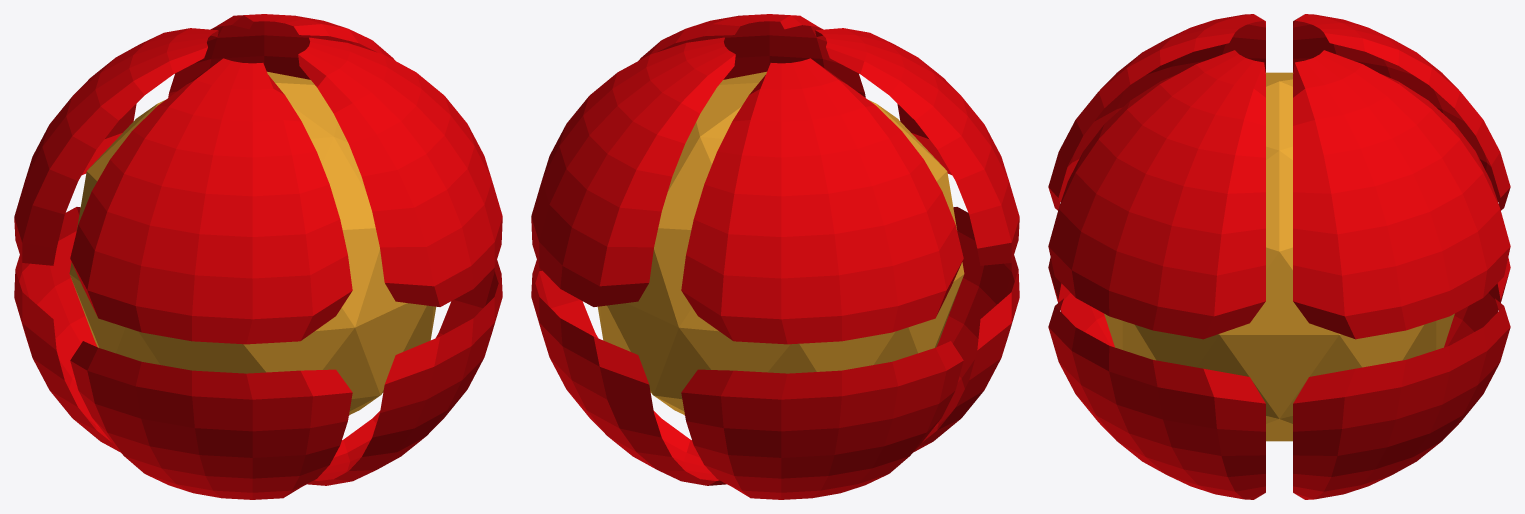
File: ItemOrb.fbx
The picture shows the model from 3 angles, left to right: view 1: azimuth 30°, elevation 25°; view 2: azimuth 150°, elevation 25°; view 3: azimuth 270°, elevation 25°; orthographic projection.
Parts seen in each view (by area): view 1: Sphere; view 2: Sphere; view 3: Sphere.
Part boxes in pixels (<box>): Sphere: <box>14,14,502,499</box>; Sphere: <box>531,14,1019,499</box>; Sphere: <box>1048,14,1510,499</box>.
Bounding box in the file's own units: 159 × 160 × 156.
